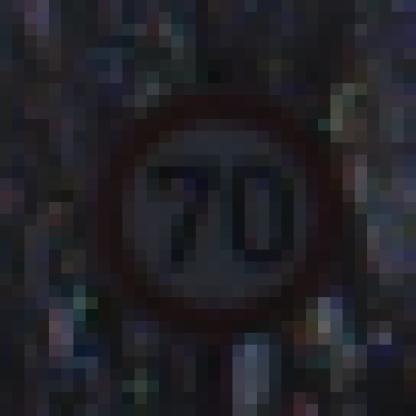Speed Limit 70: (100, 98, 336, 329)
